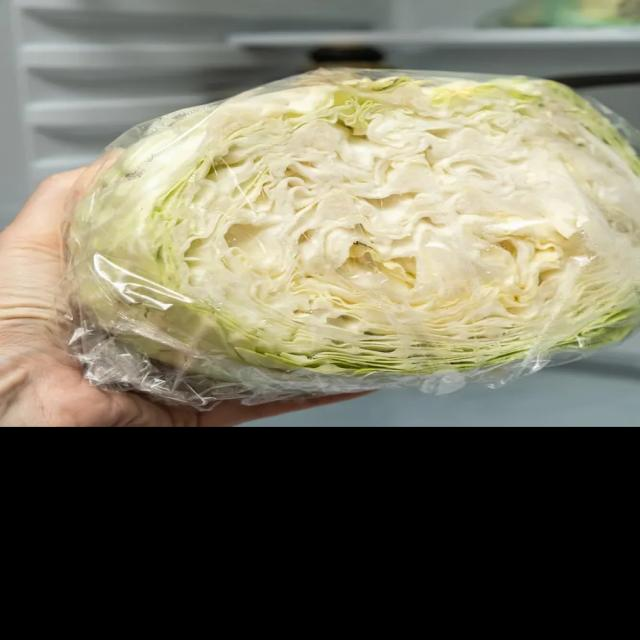rotten cabbage: (45, 67, 640, 408)
